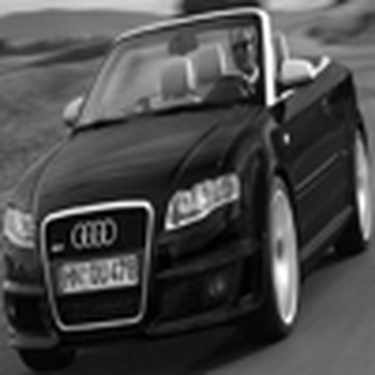car: (4, 1, 372, 371)
